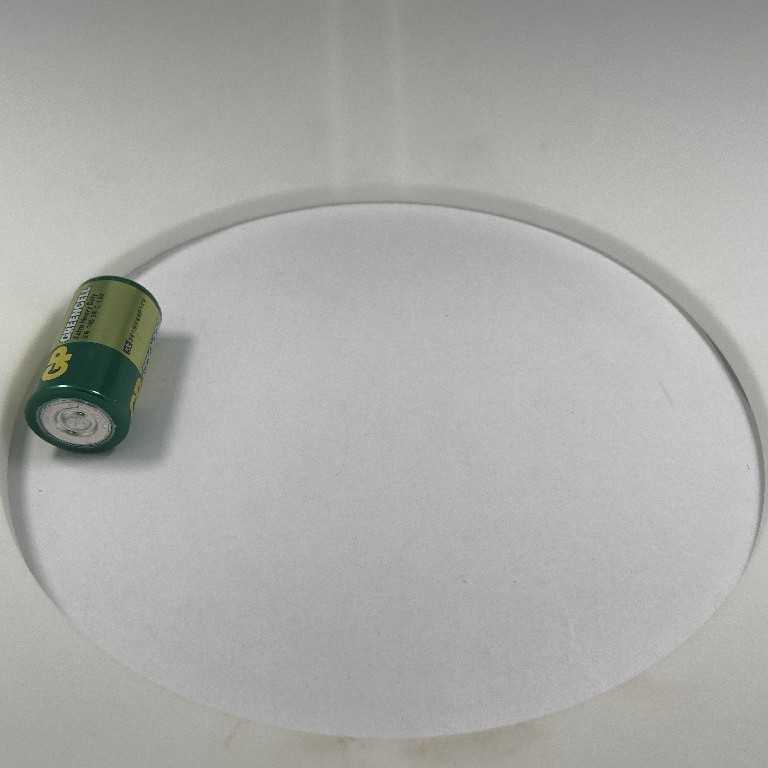charge: (18, 272, 163, 457)
